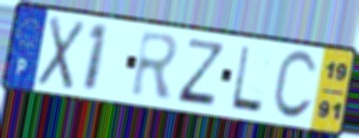1: (84, 21, 109, 95)
C: (269, 48, 320, 123)
L: (228, 43, 265, 116)
R: (128, 28, 182, 102)
X: (35, 13, 88, 93)
Z: (174, 36, 227, 109)
